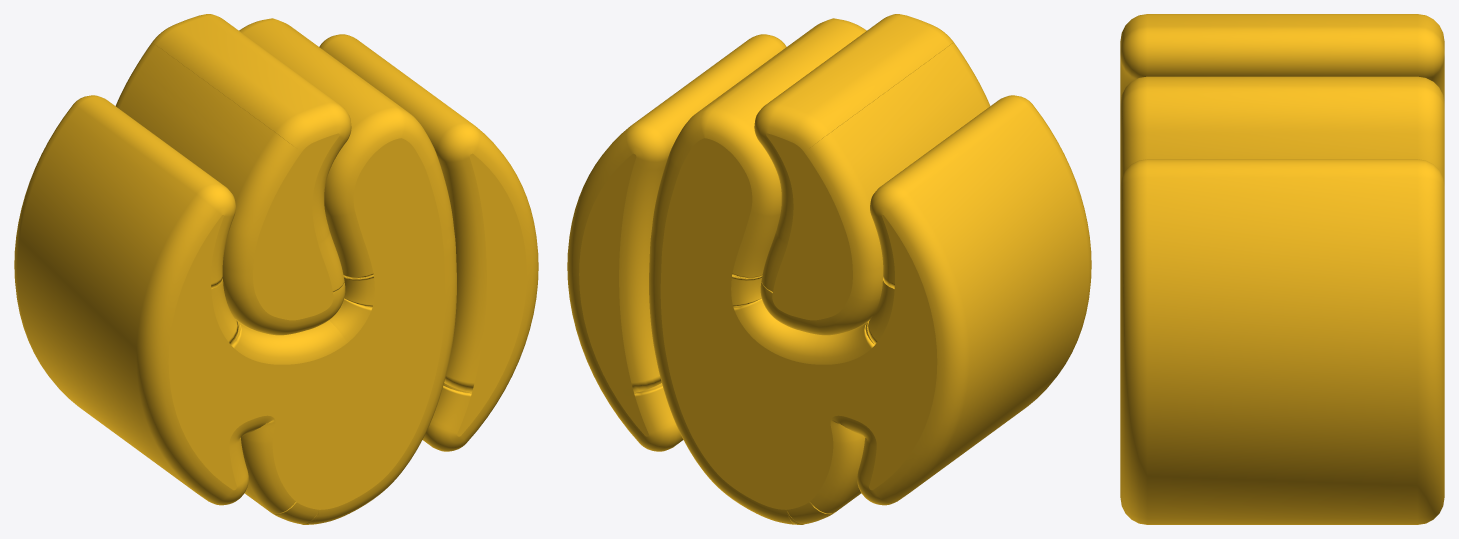
The model's file is sinhala_kw_emblem_standalone.glb.
3 views of the same model, side by side, from view 1: azimuth 30°, elevation 25°; view 2: azimuth 150°, elevation 25°; view 3: azimuth 270°, elevation 25° (orthographic). The views are drawn at different scales.
Parts seen in each view (by area): view 1: SinhalaKW_Gold_Emblem; view 2: SinhalaKW_Gold_Emblem; view 3: SinhalaKW_Gold_Emblem.
Boxes of the visible parts, bbox=[...] form: SinhalaKW_Gold_Emblem: bbox=[14, 14, 538, 524]; SinhalaKW_Gold_Emblem: bbox=[567, 14, 1091, 524]; SinhalaKW_Gold_Emblem: bbox=[1120, 14, 1444, 524].
Bounding box in the file's own units: 2.23 × 2.22 × 1.38.
